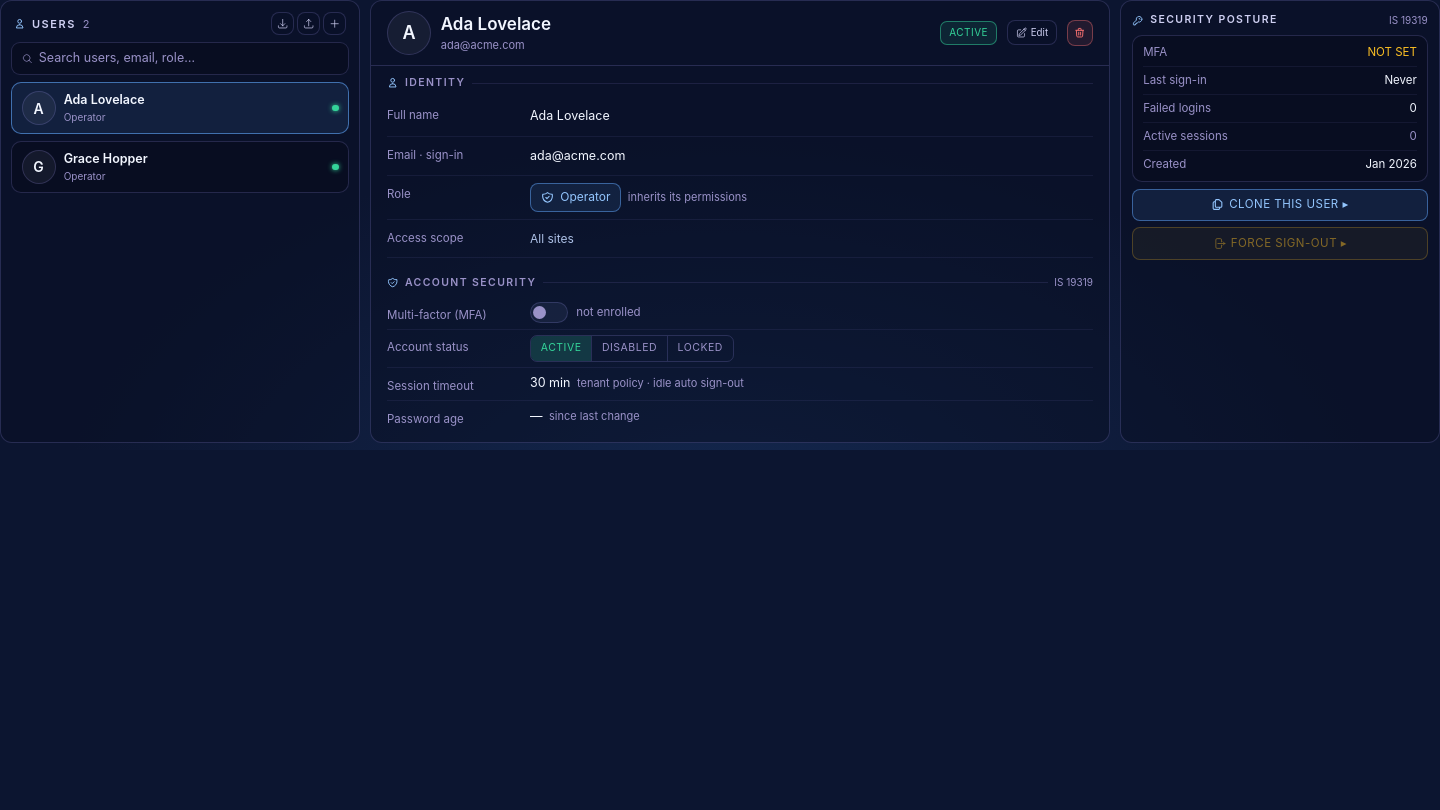
it: deleting a user › asks for confirmation and sends nothing until it is given
Click the button named "delete user": point(1080, 33) x1=1067 y1=20 x2=1093 y2=46
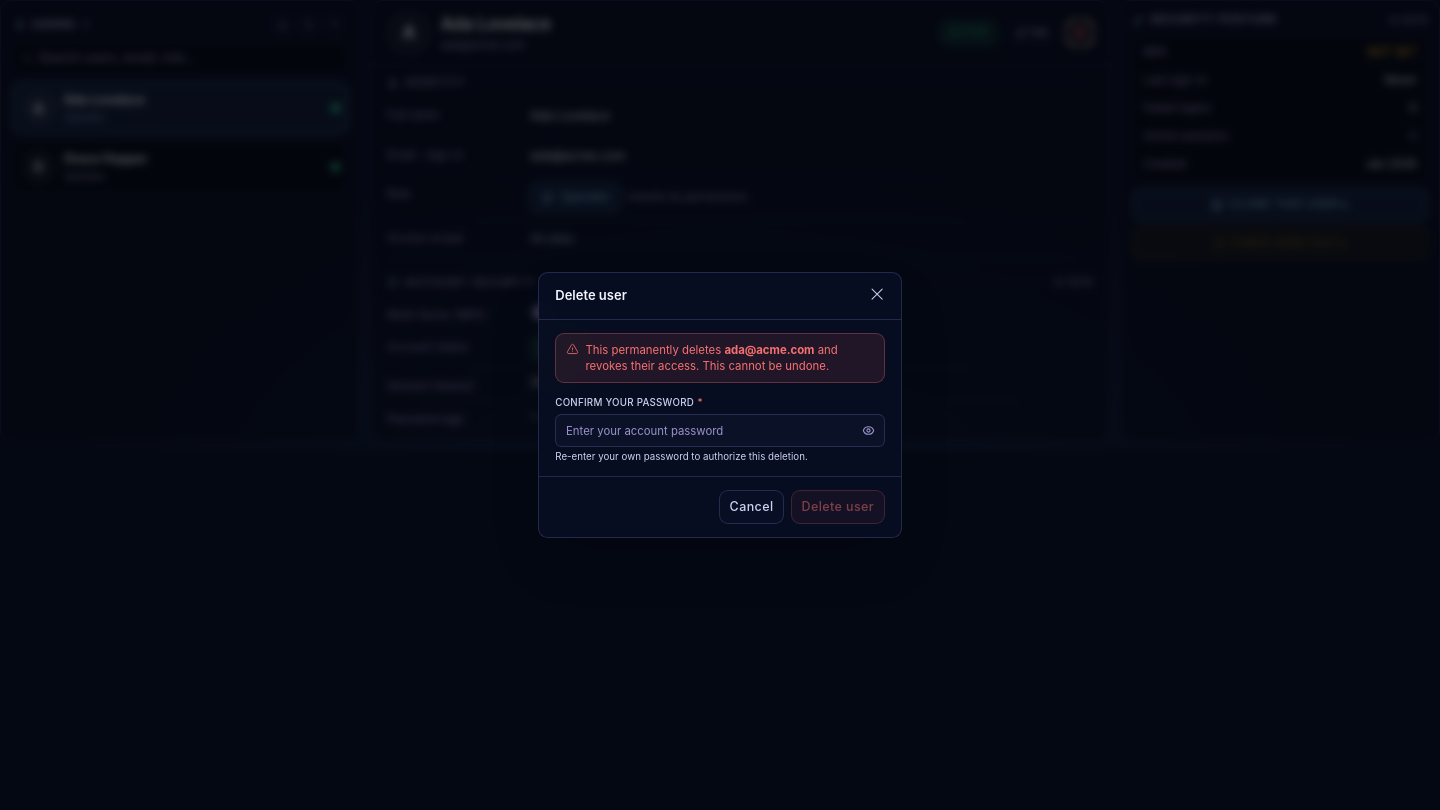
Check: the text "permanently deletes" is shown, box x1=586 y1=343 x2=724 y2=357
